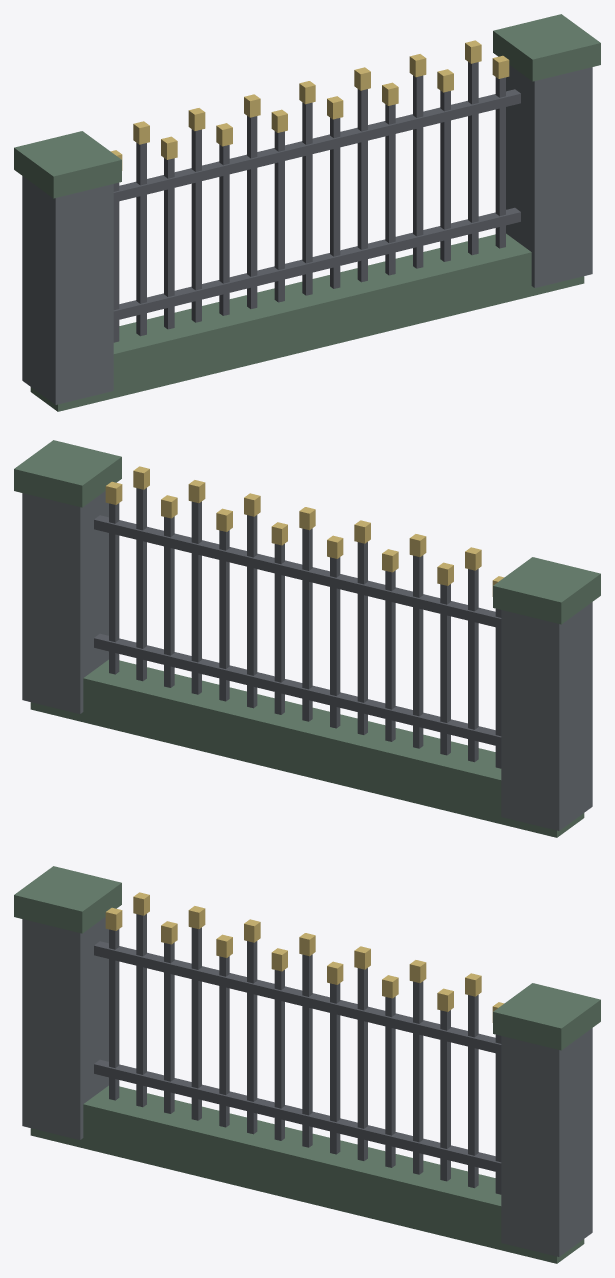
Rendered from outdoor_fence.glb.
The picture shows the model from 3 angles, top to bottom: view 1: azimuth 30°, elevation 25°; view 2: azimuth 150°, elevation 25°; view 3: azimuth 330°, elevation 25°; orthographic projection.
Parts seen in each view (by area): view 1: Outdoor_Fence; view 2: Outdoor_Fence; view 3: Outdoor_Fence.
Part boxes in pixels (left/top/right/bottom): Outdoor_Fence: left=14, top=14, right=600, bottom=411; Outdoor_Fence: left=14, top=440, right=600, bottom=837; Outdoor_Fence: left=14, top=866, right=600, bottom=1263.
Bounding box in the file's own units: 4.16 × 1.84 × 0.52.
